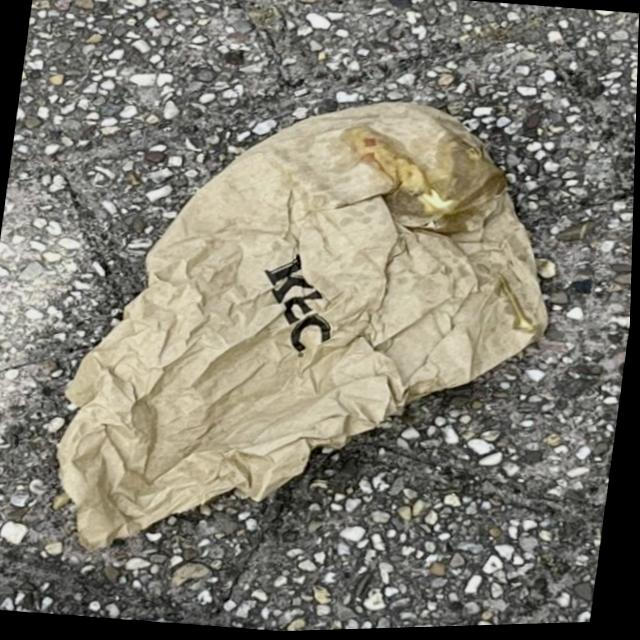Paper: (45, 64, 582, 600)
